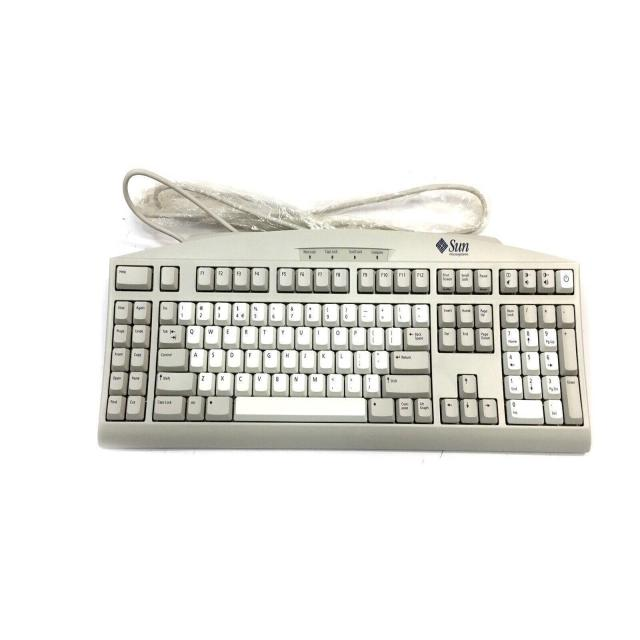keyboard: (97, 255, 590, 456)
